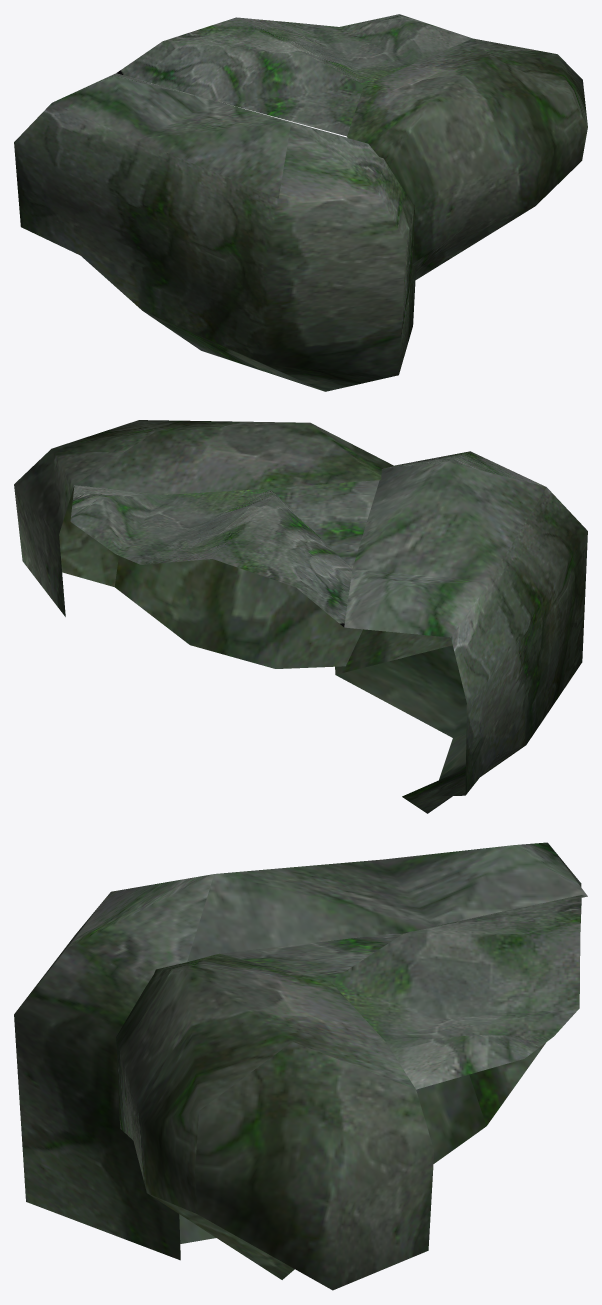
The model's file is yw_wuliangshan_yabianfengbian01.FBX.
3 views of the same model, one above another, from view 1: azimuth 30°, elevation 25°; view 2: azimuth 150°, elevation 25°; view 3: azimuth 270°, elevation 25° (orthographic). The views are drawn at different scales.
Visible parts, largest first — view 1: yw_wuliangshan_yabianfengbian01; view 2: yw_wuliangshan_yabianfengbian01; view 3: yw_wuliangshan_yabianfengbian01.
Part boxes in pixels (x1,y1,x2,y2): yw_wuliangshan_yabianfengbian01: (14, 14, 587, 391); yw_wuliangshan_yabianfengbian01: (14, 420, 587, 813); yw_wuliangshan_yabianfengbian01: (14, 842, 587, 1290).
Bounding box in the file's own units: 238 × 122 × 174.
